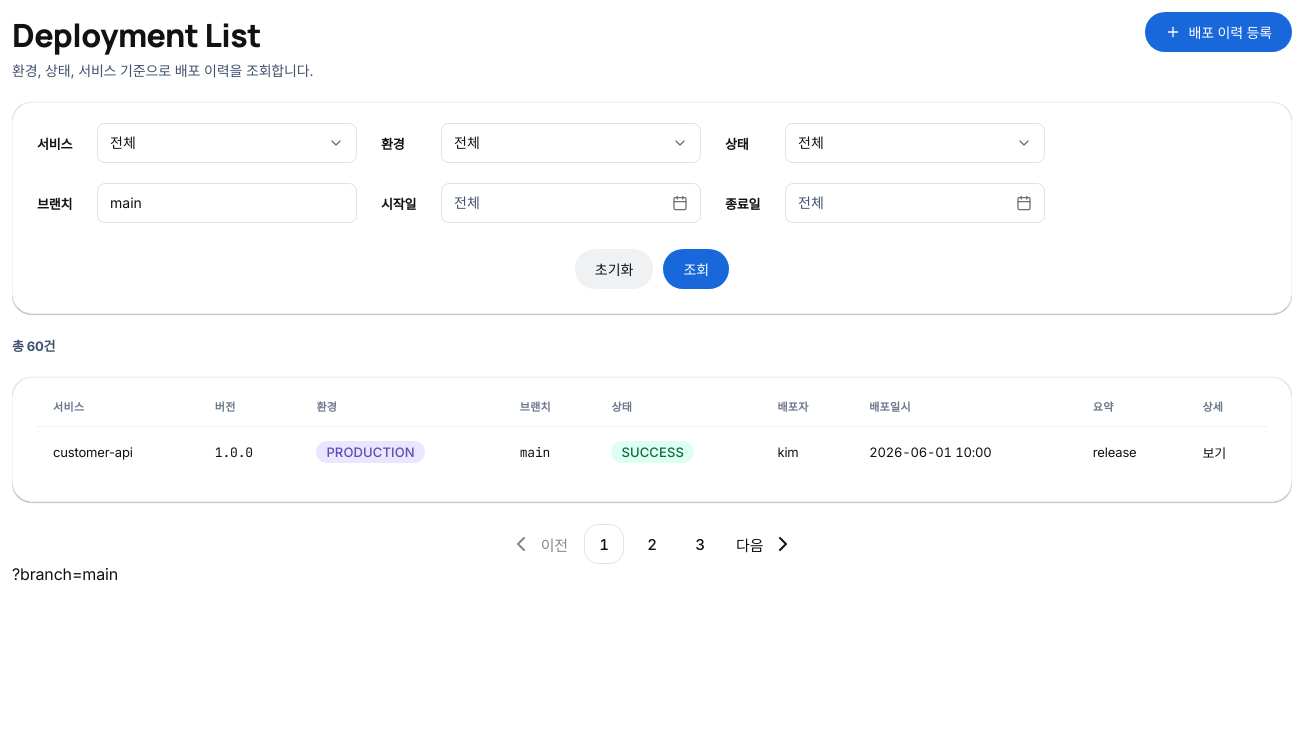
Test: DeploymentList URL query state › writes ?page= to the URL when paginating (preserving filters)
Click the link "다음" at (766, 544), box [736,532,795,556]
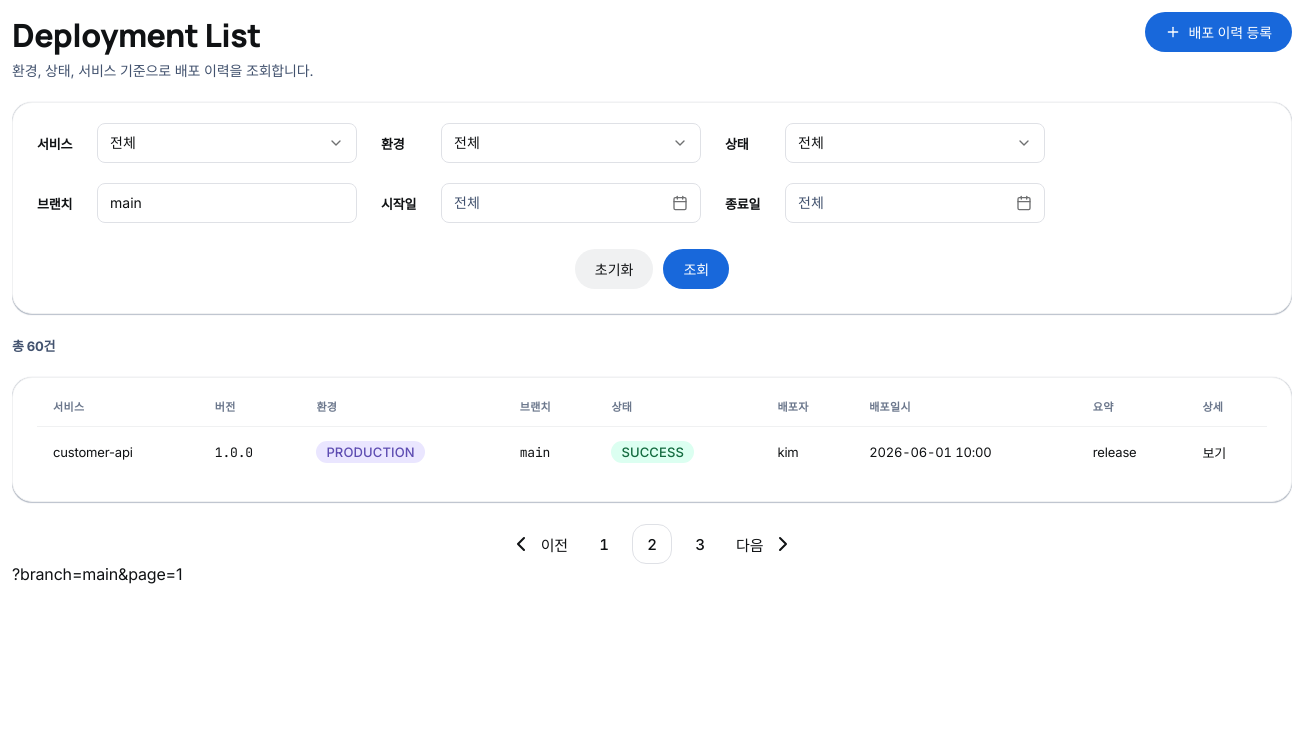
expect the text with test id "search" reads "?branch=main&page=1": met, box [12,564,182,584]
